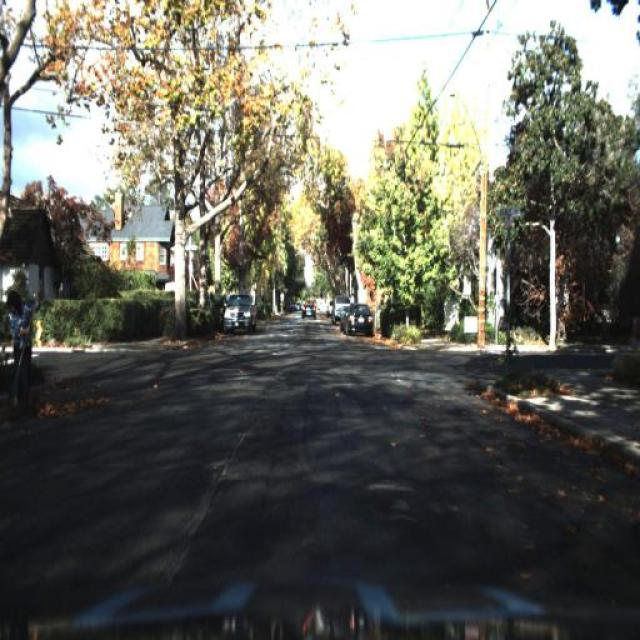car: (220, 288, 259, 336), (343, 299, 373, 341), (330, 296, 348, 329), (300, 298, 320, 324)
trafficLight: (2, 286, 39, 423)
